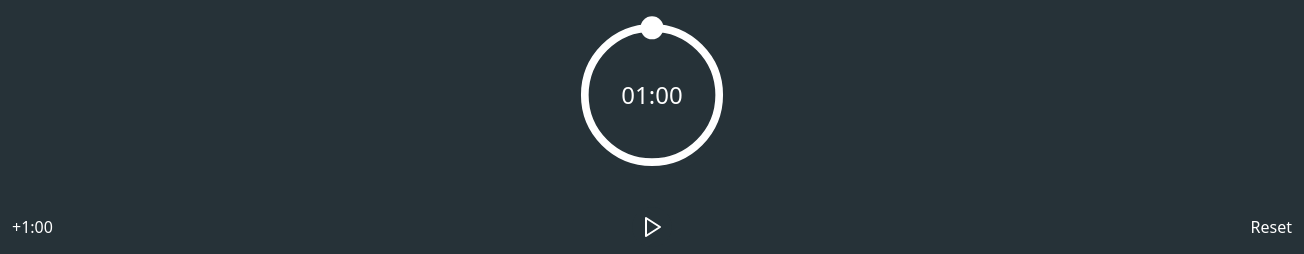
it: Timer Component › should not allow empty input in minute input
The image size is (1304, 254).
Clear the field named "Minutes" at (629, 95), box [609,79,649,111]
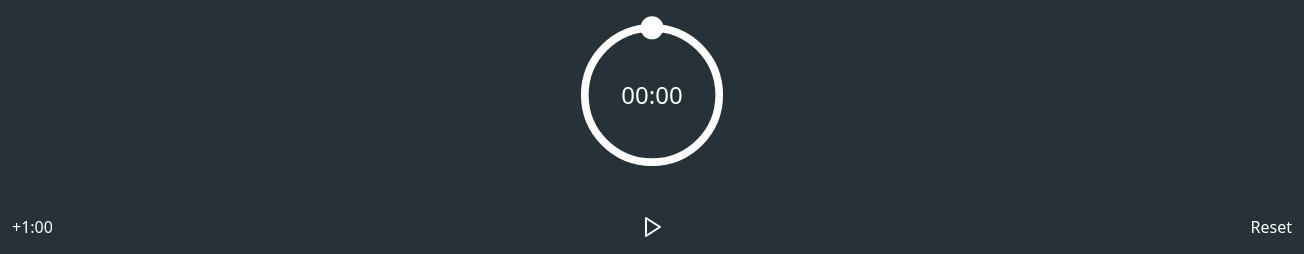
Now the field named "Minutes" holds "00", box [609,79,649,111]
